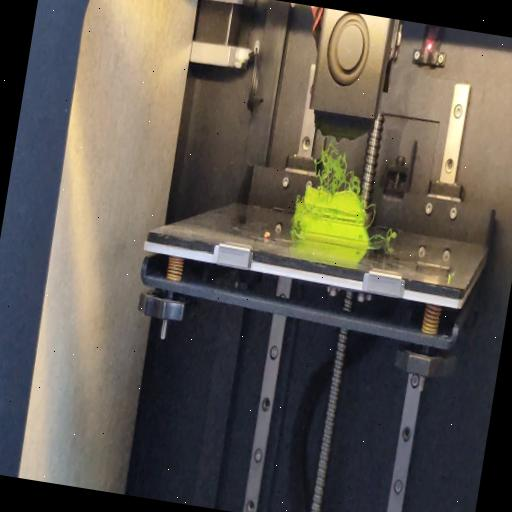spaghetti: (307, 136, 369, 196), (365, 226, 400, 248), (362, 200, 380, 230), (287, 227, 301, 242)
